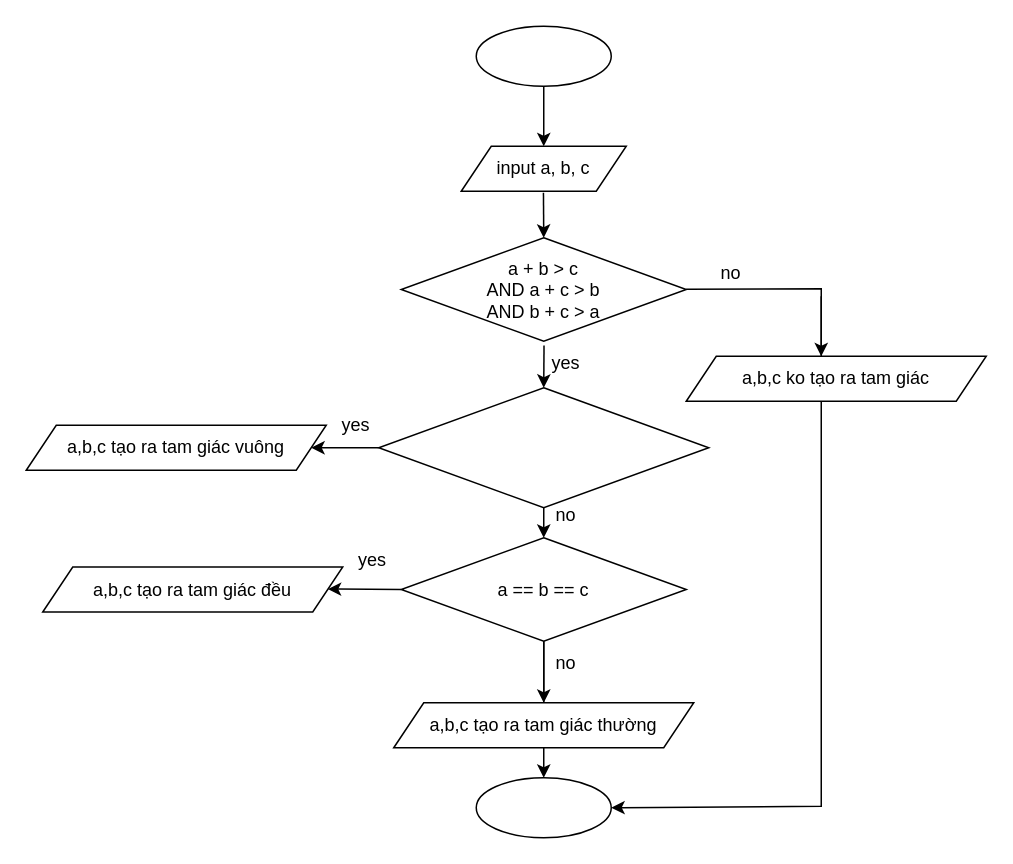
This 1013x864 diagram has some shape labels left out. Each missing label, with the centre of its shape:
a^2 + b^2 == c^2 OR a^2 + c^2 == b^2 OR b^2 + c^2 == a^2: the point at 543,447
end: the point at 543,807
start: the point at 543,55
